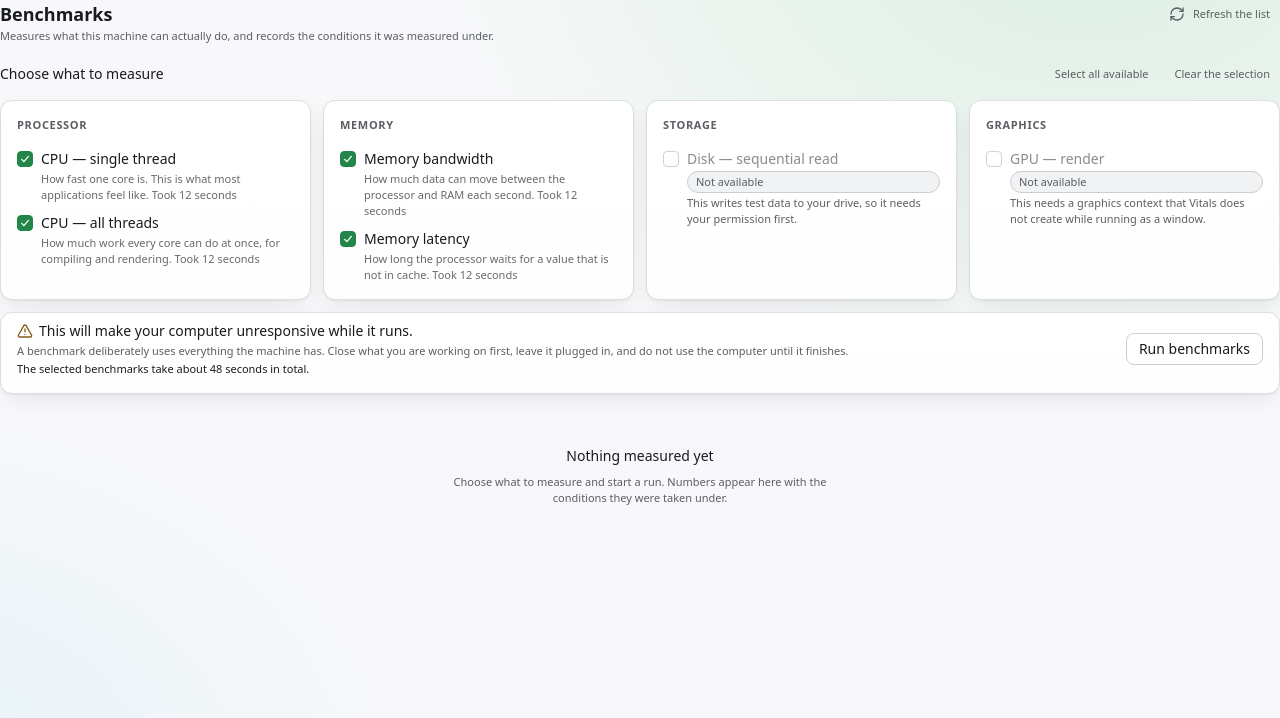
Test case: BenchmarksScreen › untrustworthy results › is visually distinct and says which condition spoiled it
Expected: the heading "Benchmarks" is shown, [0,2,112,26]
Click the button "Run benchmarks": coordinates (1194, 349) [1126,333,1263,365]
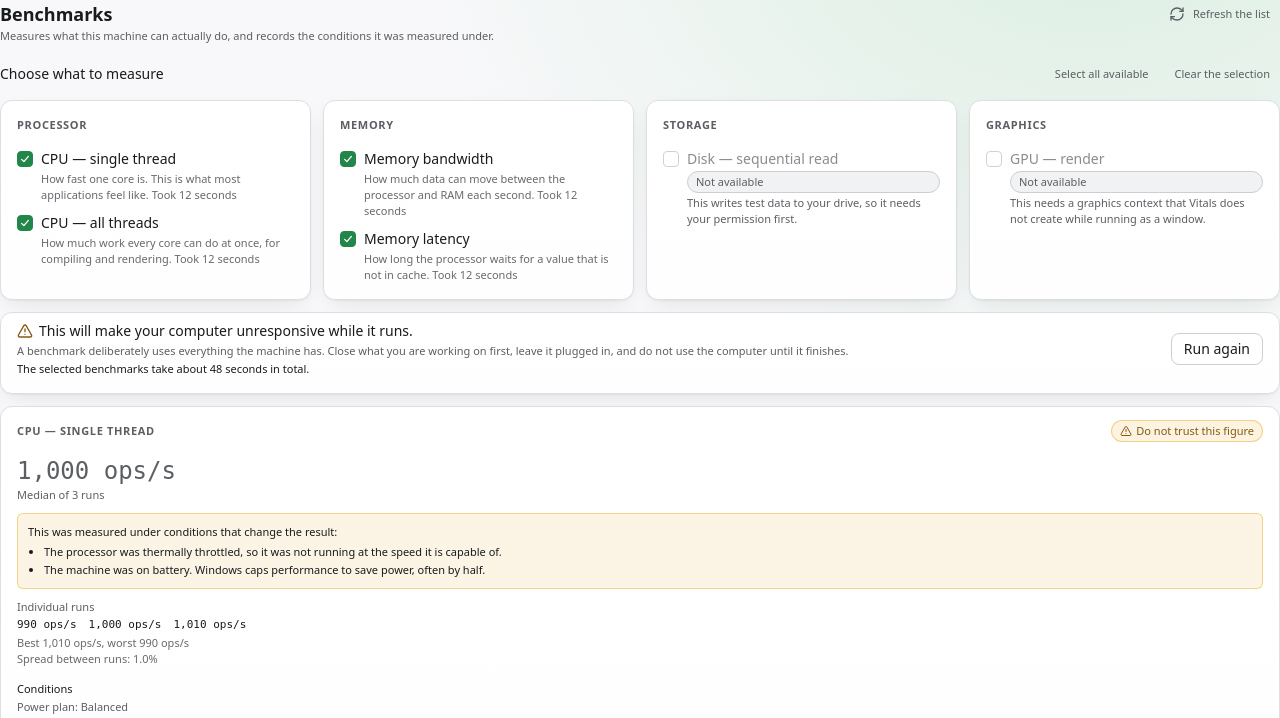
Result: the text "Do not trust this figure" is shown at [1111,420,1263,442]
Result: the list item "thermally throttled" is shown at [44,544,502,559]
Result: the list item "on battery" is shown at [44,562,485,577]
